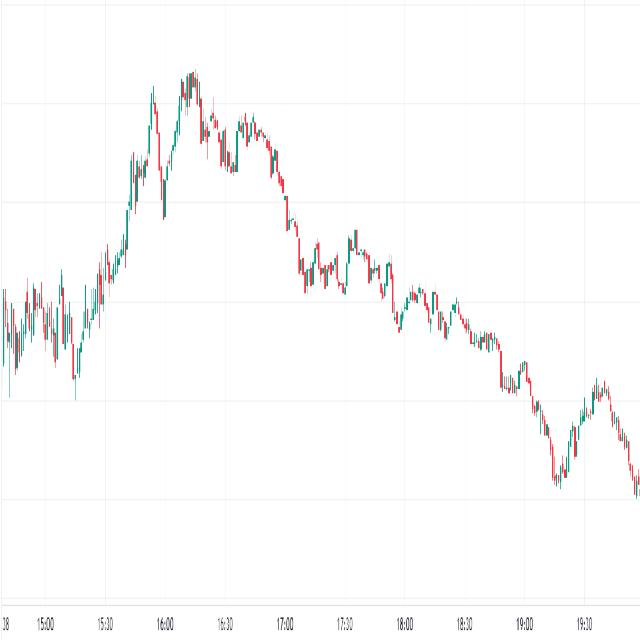Ascending-Triangle: (126, 148, 154, 256)
Channel-down: (286, 175, 636, 556)
Descending-Triangle: (162, 34, 324, 189)
Falling-Wedge: (163, 16, 253, 199)
rectangle: (1, 272, 76, 380)
